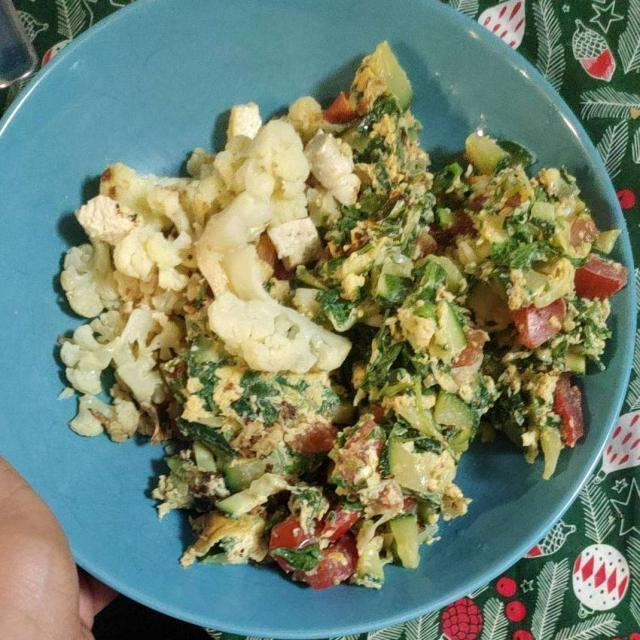cauliflower: (41, 99, 364, 443)
mixed-vegetables: (157, 41, 623, 582)
tofu: (263, 216, 325, 272)
